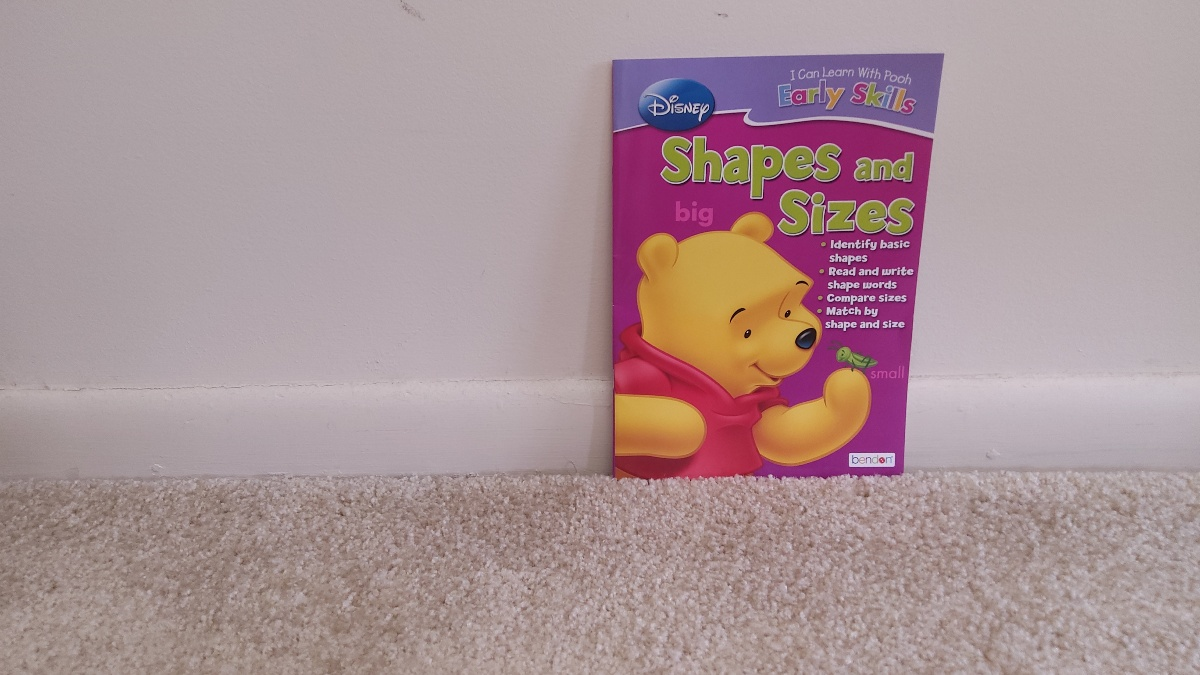book: (616, 62, 902, 478)
